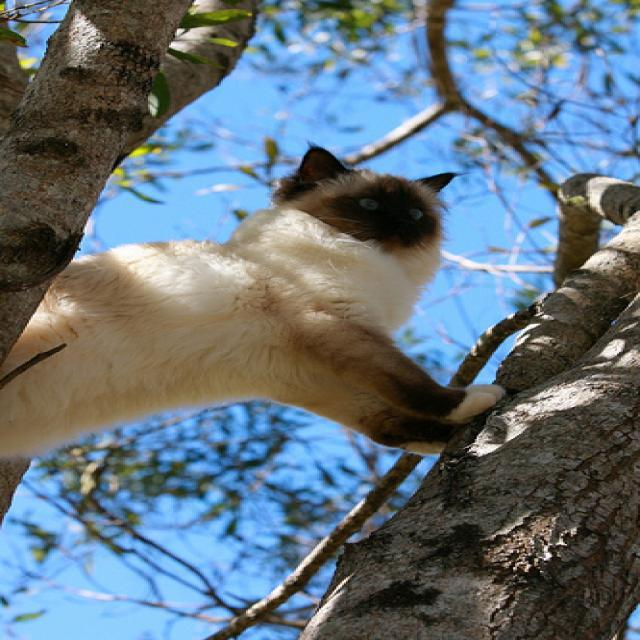Birman: (245, 112, 461, 334)
